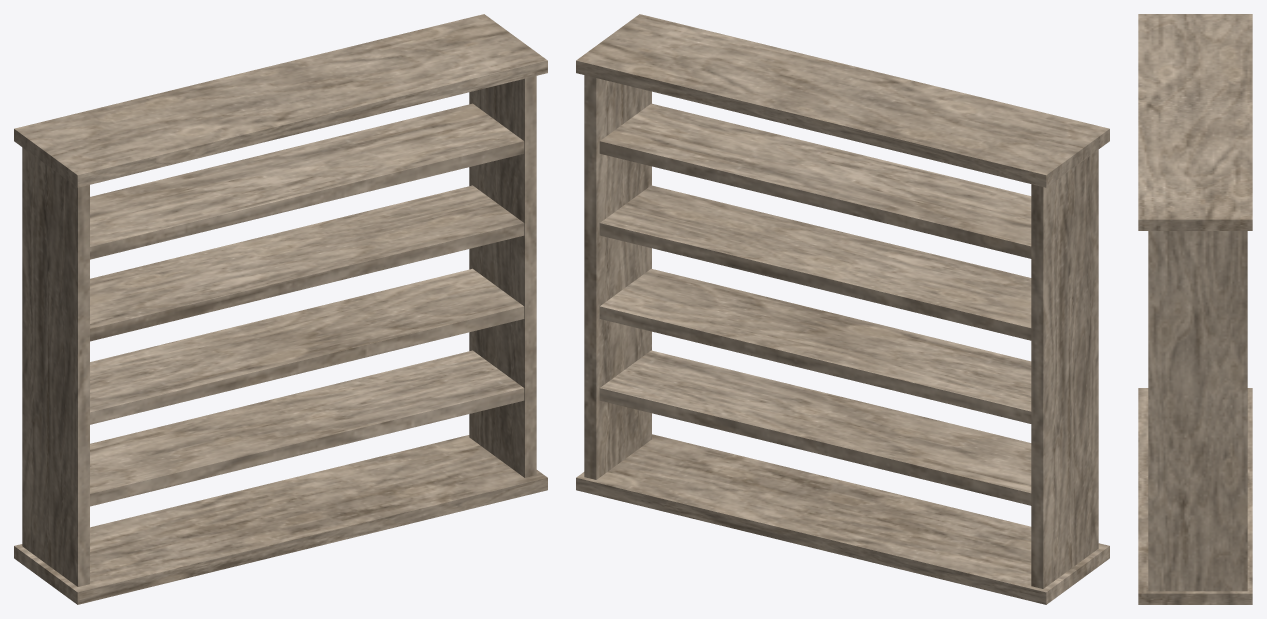
Rendered from Estanteria.fbx.
3 views of the same model, side by side, from view 1: azimuth 30°, elevation 25°; view 2: azimuth 150°, elevation 25°; view 3: azimuth 270°, elevation 25° (orthographic). The views are drawn at different scales.
Parts seen in each view (by area): view 1: Estanteria; view 2: Estanteria; view 3: Estanteria.
Part boxes in pixels (x1,y1,x2,y2): Estanteria: (14, 14, 547, 604); Estanteria: (576, 14, 1109, 604); Estanteria: (1138, 14, 1252, 604).
Bounding box in the file's own units: 308 × 269 × 72.28.
Materials: 1 (1 with a texture image).
